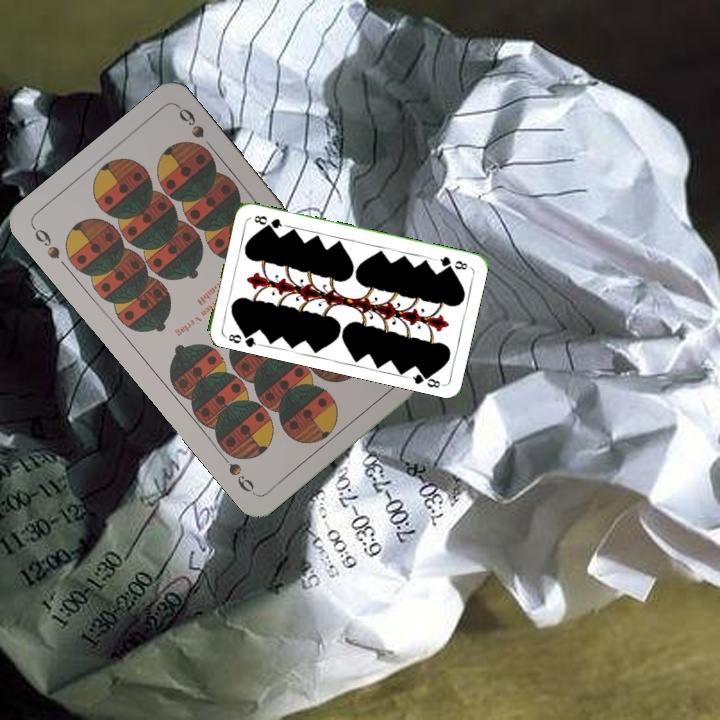G8: (221, 327, 261, 349), (432, 252, 470, 272)
S9: (28, 222, 63, 262)
